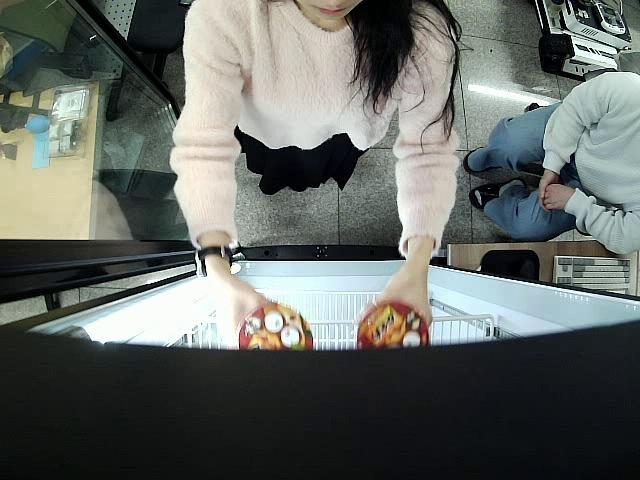06_nuguri_S: (357, 302, 430, 352), (238, 306, 314, 352)
